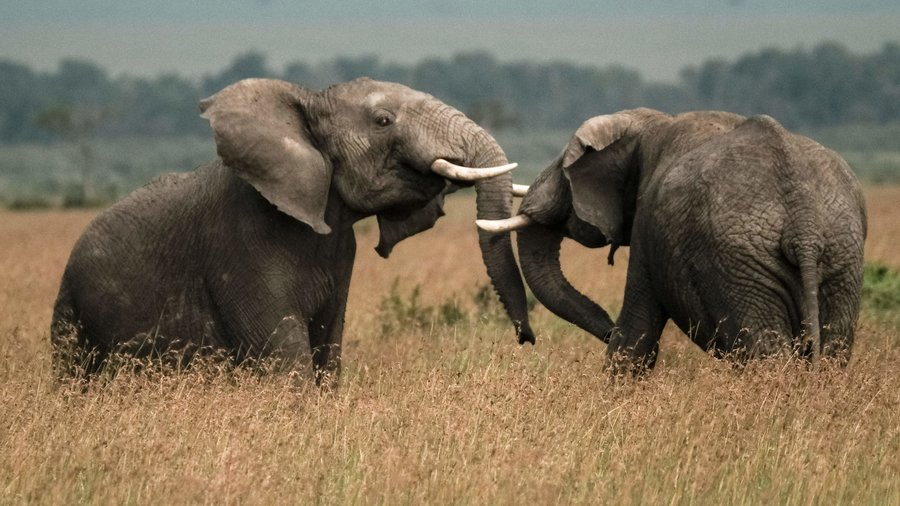elephant: (53, 76, 527, 406), (505, 110, 872, 376)
